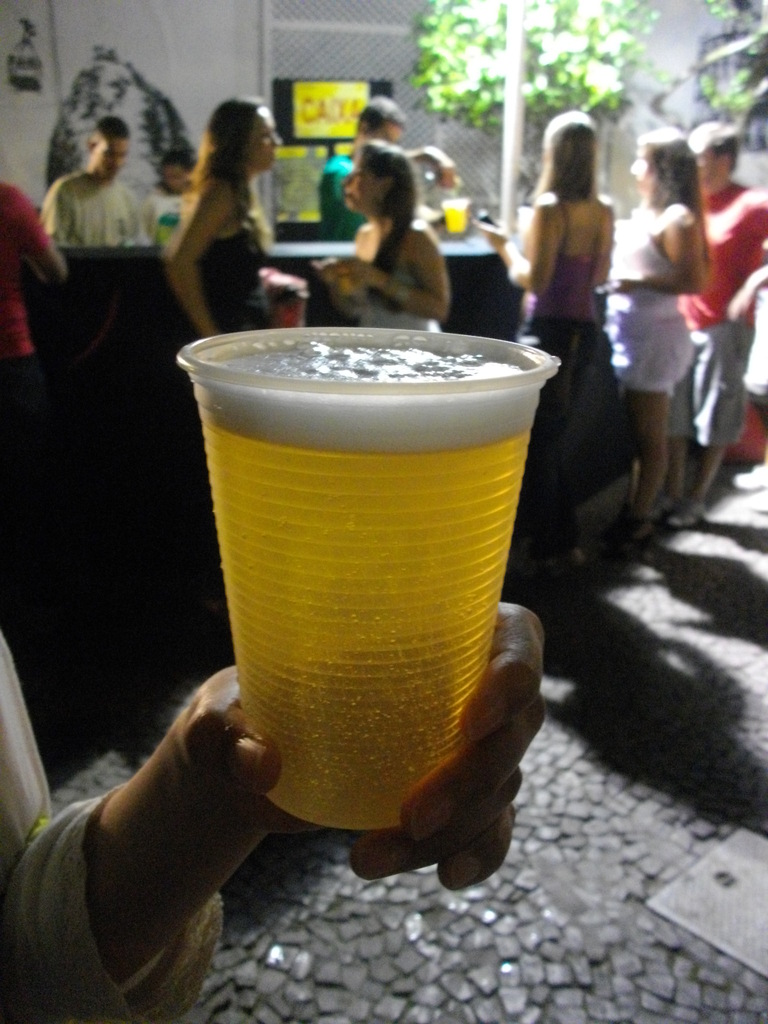Beer: (195, 311, 561, 837)
